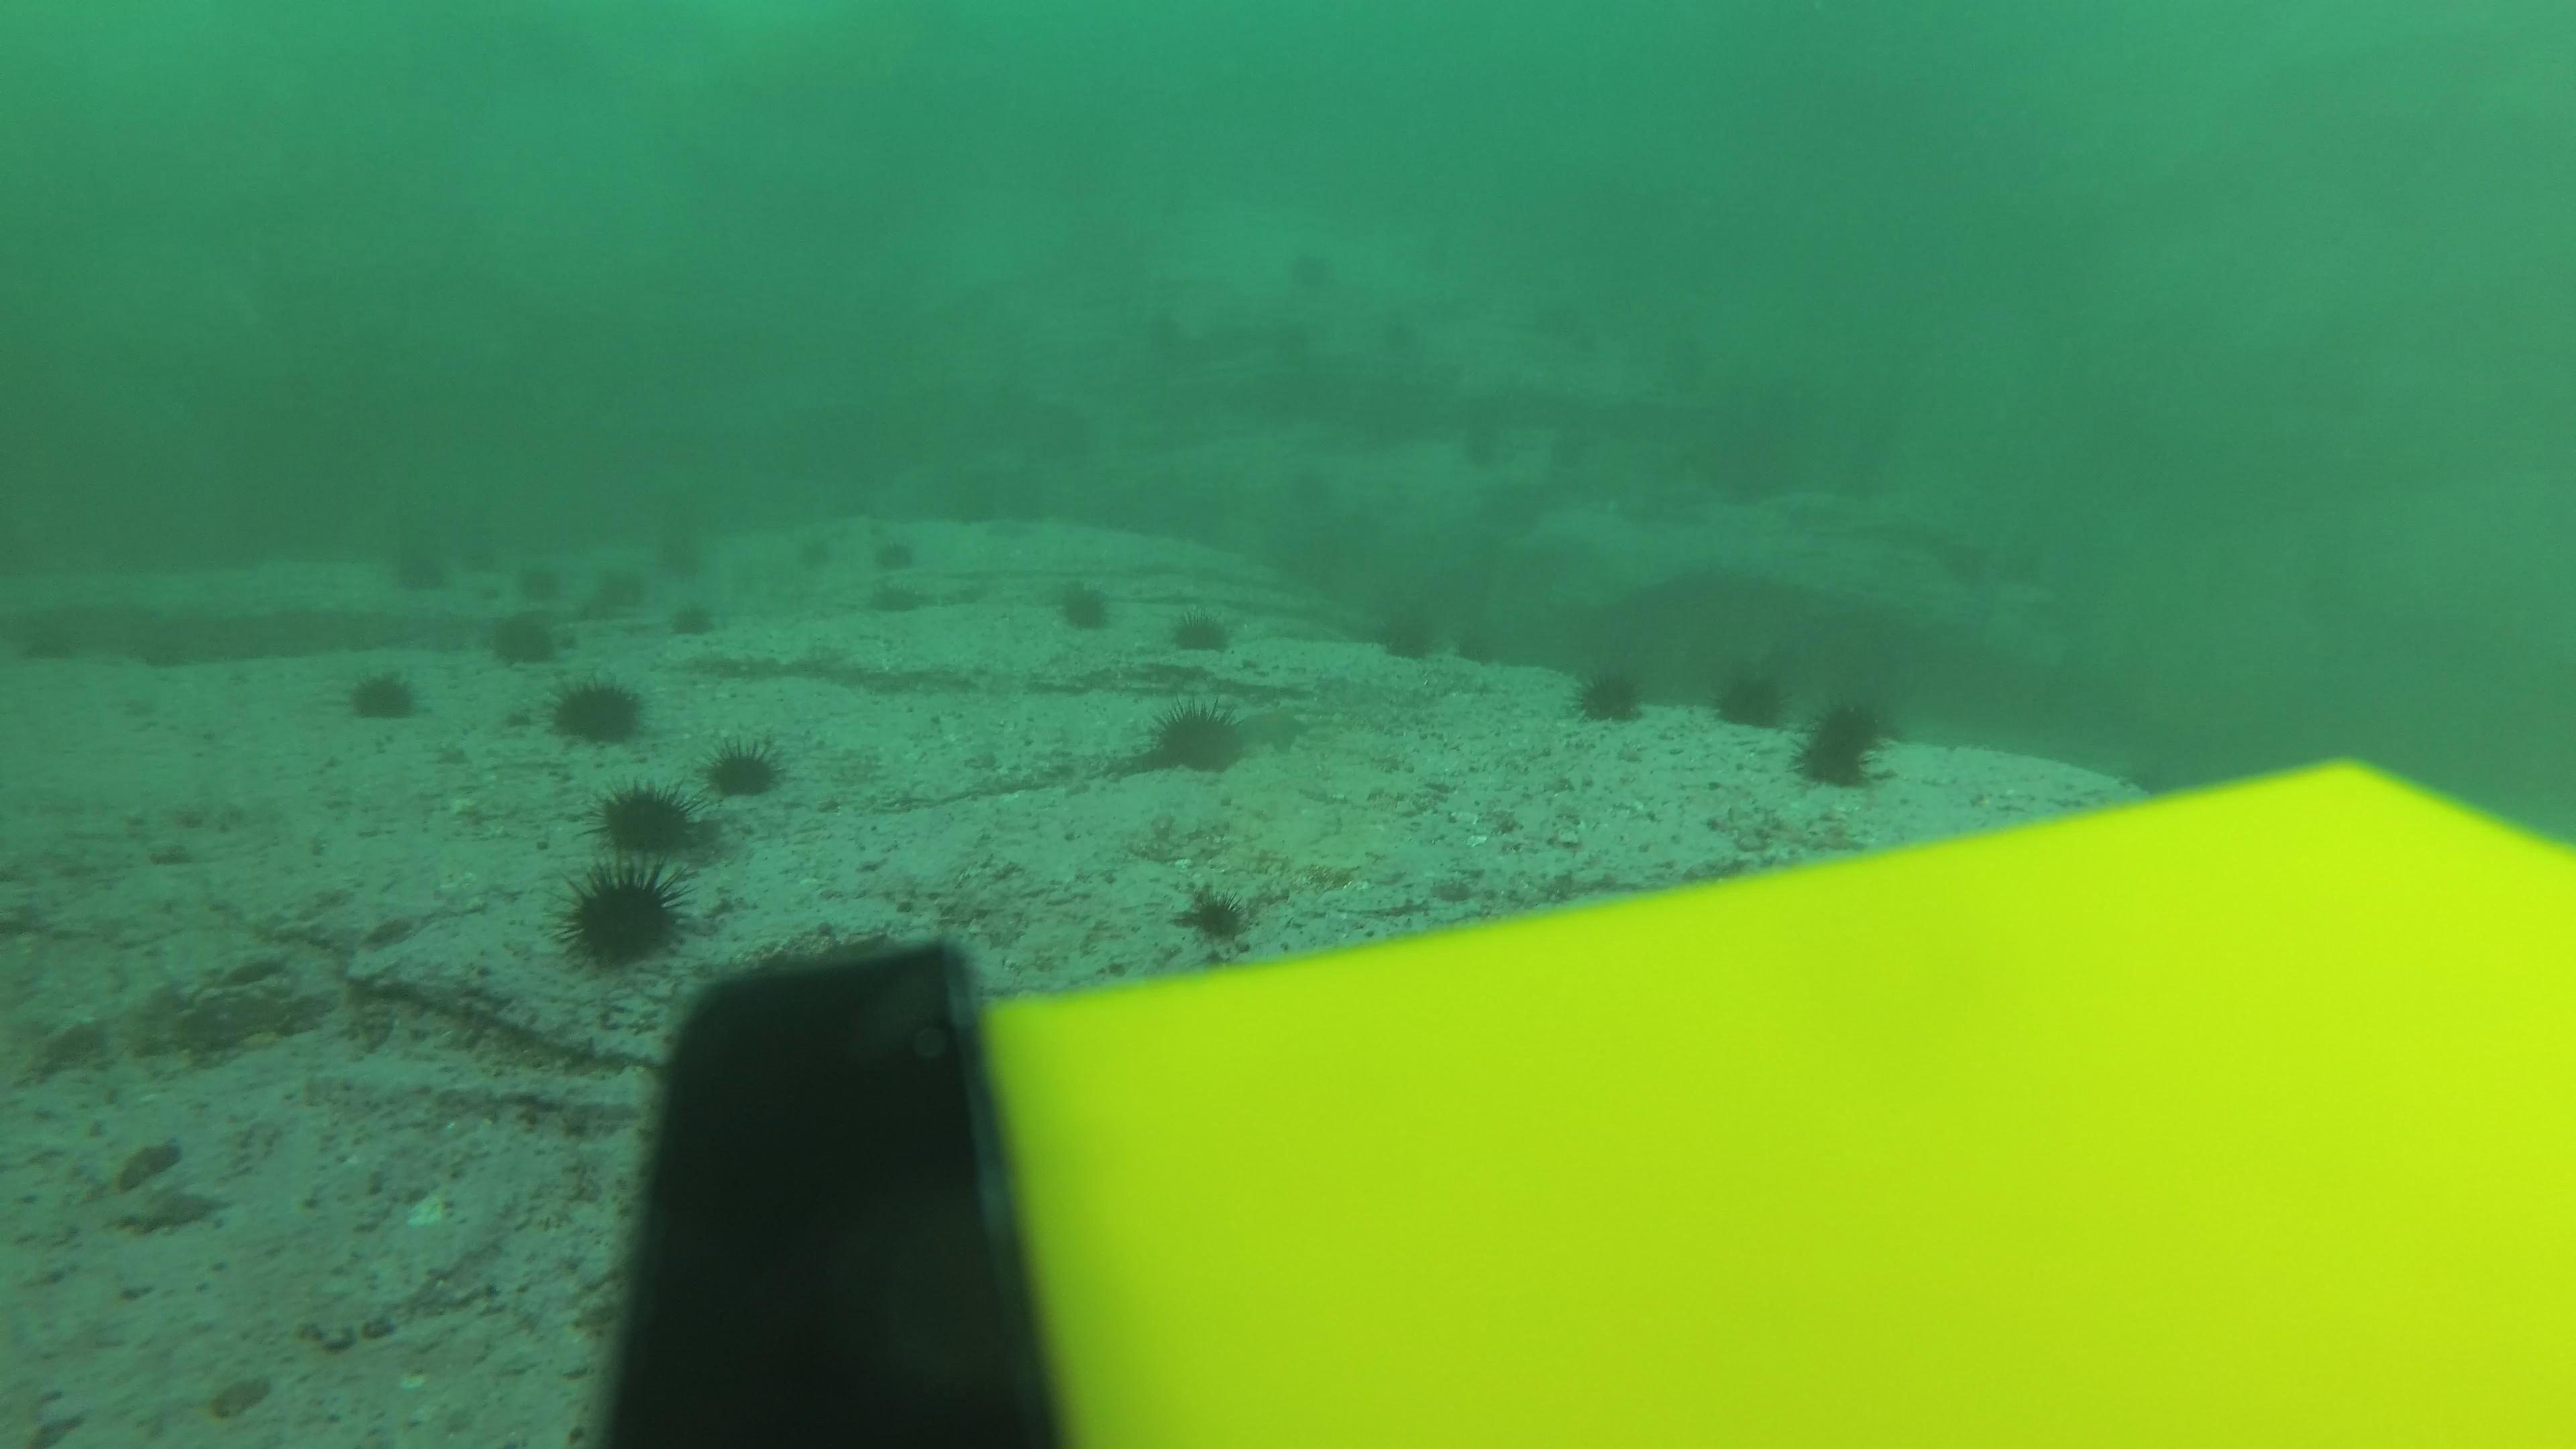echinus: (556, 860, 690, 973), (591, 778, 713, 863), (1139, 697, 1254, 782), (545, 671, 649, 752), (1564, 658, 1652, 731), (1707, 660, 1790, 736), (702, 732, 787, 803), (338, 662, 426, 729), (483, 609, 566, 678), (1175, 883, 1256, 948), (1369, 600, 1447, 667), (1047, 571, 1120, 637), (1785, 741, 1872, 794), (1808, 697, 1895, 750), (1166, 603, 1238, 660), (651, 533, 706, 584), (593, 563, 648, 614), (389, 552, 444, 602), (663, 596, 718, 646), (513, 557, 568, 607), (442, 533, 497, 582), (1555, 327, 1614, 372), (1451, 621, 1509, 665), (863, 579, 920, 623), (1283, 248, 1339, 292), (863, 538, 920, 582), (1288, 467, 1345, 511), (793, 538, 851, 580), (1458, 430, 1516, 472), (1483, 474, 1541, 517), (1539, 428, 1596, 471), (1118, 308, 1164, 341), (1532, 304, 1576, 338), (1375, 315, 1419, 349), (1269, 322, 1313, 356)
starfish: (1231, 699, 1313, 759)
